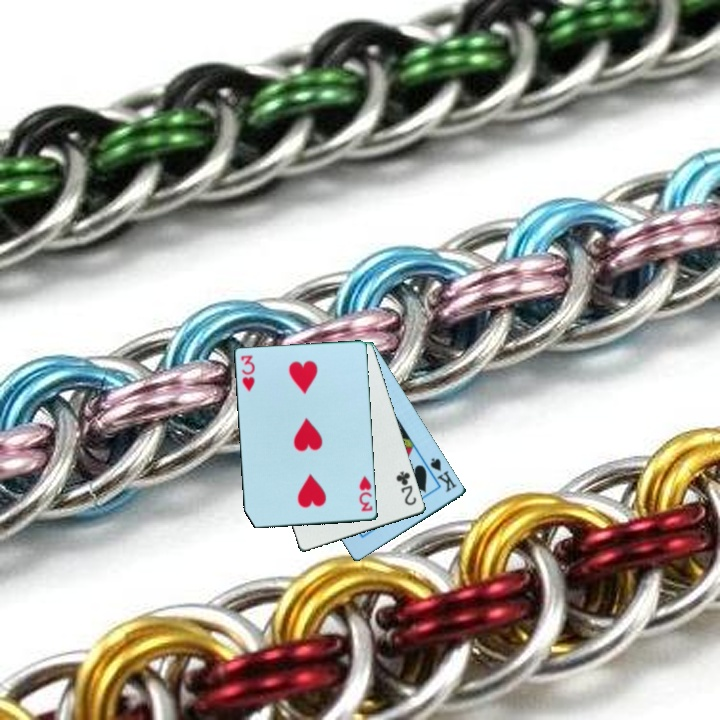2c: (393, 468, 420, 508)
3h: (238, 352, 258, 395), (356, 472, 375, 514)
Ks: (427, 454, 460, 495)
